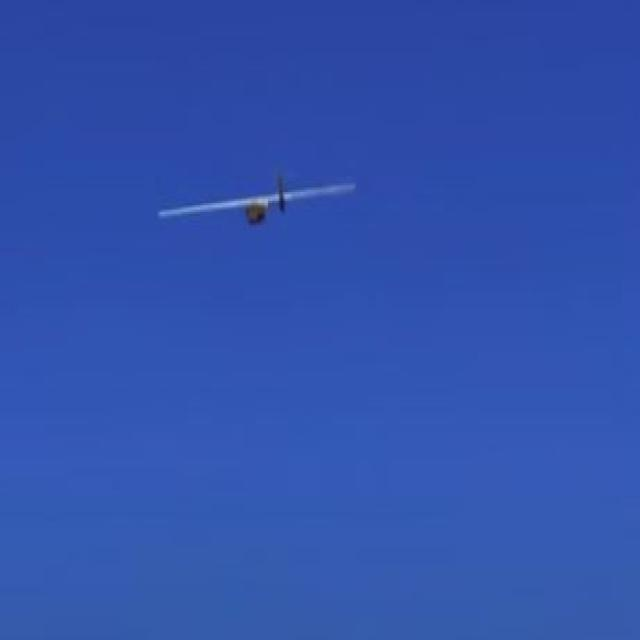iha: (159, 168, 354, 219)
